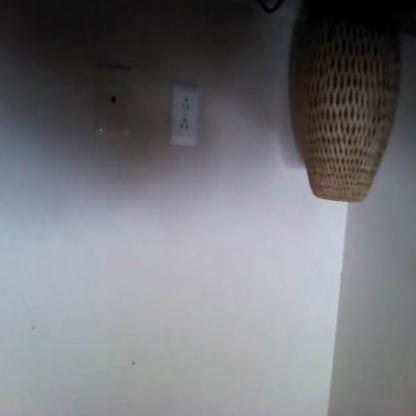OUTLET: (169, 82, 199, 148)
